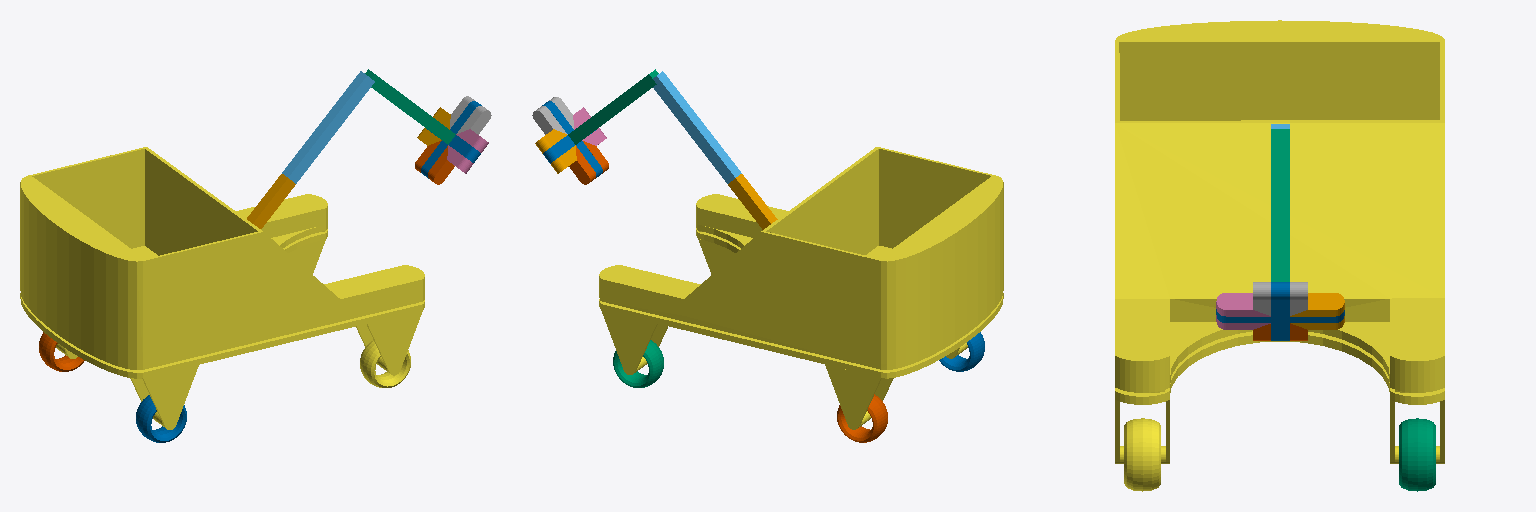
robot.urdf — Final Robot:
<robot name="Final Robot" version="1.0">
  <joint name="Arm_Link_1" type="revolute">
    <limit lower="-1.57000" upper="10.00000" effort="0.00000" velocity="0.00000"/>
    <origin rpy="-1.57080 1.57080 0.00000" xyz="-0.00205 -0.00000 0.24982"/>
    <parent link="Arm_Base_link"/>
    <child link="Arm_Link_1_link"/>
    <axis xyz="0.00000 0.00000 1.00000"/>
  </joint>
  <joint name="Arm_Link_2" type="revolute">
    <limit lower="-5.00000" upper="5.00000" effort="0.00000" velocity="0.00000"/>
    <origin rpy="0.00000 0.00000 1.54609" xyz="-0.99754 0.00174 -0.00000"/>
    <parent link="Arm_Link_1_link"/>
    <child link="Arm_Link_2_link"/>
    <axis xyz="0.00000 0.00000 1.00000"/>
  </joint>
  <joint name="Base_Arm" type="revolute">
    <limit lower="-10.00000" upper="10.00000" effort="0.00000" velocity="0.00000"/>
    <origin rpy="0.00000 0.78540 0.00000" xyz="0.47162 0.00259 -0.16401"/>
    <parent link="Chasis_link"/>
    <child link="Arm_Base_link"/>
    <axis xyz="0.00000 0.00000 1.00000"/>
  </joint>
  <joint name="Gripper_1" type="revolute">
    <limit lower="0.00000" upper="3.00000" effort="0.00000" velocity="0.00000"/>
    <origin rpy="-1.57080 -1.56905 0.00000" xyz="0.30521 -0.00000 -0.00053"/>
    <parent link="Effector_Base_link"/>
    <child link="Grip_1_link"/>
    <axis xyz="0.00000 0.00000 1.00000"/>
  </joint>
  <joint name="Gripper_2" type="revolute">
    <limit lower="-3.00000" upper="0.00000" effort="0.00000" velocity="0.00000"/>
    <origin rpy="1.56905 0.00000 -1.57080" xyz="-0.00000 -0.30521 0.00000"/>
    <parent link="Effector_Base_link"/>
    <child link="Grip_2_link"/>
    <axis xyz="0.00000 0.00000 1.00000"/>
  </joint>
  <joint name="Gripper_3" type="revolute">
    <limit lower="-3.00000" upper="0.00000" effort="0.00000" velocity="0.00000"/>
    <origin rpy="1.57083 1.56905 -3.14156" xyz="-0.30521 -0.00000 0.00053"/>
    <parent link="Effector_Base_link"/>
    <child link="Grip_3_link"/>
    <axis xyz="0.00000 0.00000 1.00000"/>
  </joint>
  <joint name="Gripper_4" type="revolute">
    <limit lower="0.00000" upper="3.00000" effort="0.00000" velocity="0.00000"/>
    <origin rpy="-1.56905 -0.00000 1.57080" xyz="-0.00000 0.30521 0.00000"/>
    <parent link="Effector_Base_link"/>
    <child link="Grip_4_link"/>
    <axis xyz="0.00000 0.00000 1.00000"/>
  </joint>
  <joint name="Gripper_Base" type="continuous">
    <limit lower="0" upper="0" effort="0.00000" velocity="0.00000"/>
    <origin rpy="1.57080 -0.00000 -1.57254" xyz="-1.05000 0.00096 -0.00000"/>
    <parent link="Arm_Link_2_link"/>
    <child link="Effector_Base_link"/>
    <axis xyz="0.00000 0.00000 1.00000"/>
  </joint>
  <joint name="Lid" type="revolute">
    <limit lower="0.00000" upper="1.60000" effort="0.00000" velocity="0.00000"/>
    <origin rpy="1.57080 0.00000 0.00000" xyz="-1.14192 -0.00004 0.12451"/>
    <parent link="Chasis_link"/>
    <child link="Lid_link"/>
    <axis xyz="0.00000 0.00000 1.00000"/>
  </joint>
  <joint name="Wheel_1" type="continuous">
    <limit lower="0" upper="0" effort="0.00000" velocity="0.00000"/>
    <origin rpy="1.57080 0.00000 0.00000" xyz="-0.92500 0.75000 -1.35074"/>
    <parent link="Chasis_link"/>
    <child link="Wheel_Rear_Right_link"/>
    <axis xyz="0.00000 0.00000 1.00000"/>
  </joint>
  <joint name="Wheel_2" type="continuous">
    <limit lower="0" upper="0" effort="0.00000" velocity="0.00000"/>
    <origin rpy="1.57080 0.00000 0.00000" xyz="-0.92500 -0.75000 -1.35074"/>
    <parent link="Chasis_link"/>
    <child link="Wheel_Rear_Left_link"/>
    <axis xyz="0.00000 0.00000 1.00000"/>
  </joint>
  <joint name="Wheel_3" type="continuous">
    <limit lower="0" upper="0" effort="0.00000" velocity="0.00000"/>
    <origin rpy="1.57080 0.00000 0.00000" xyz="1.07500 -0.75000 -1.35074"/>
    <parent link="Chasis_link"/>
    <child link="Wheel_Front_Right_link"/>
    <axis xyz="0.00000 0.00000 1.00000"/>
  </joint>
  <joint name="Wheel_4" type="continuous">
    <limit lower="0" upper="0" effort="0.00000" velocity="0.00000"/>
    <origin rpy="1.57080 0.00000 0.00000" xyz="1.07500 0.75000 -1.35074"/>
    <parent link="Chasis_link"/>
    <child link="Wheel_Front_Left_link"/>
    <axis xyz="0.00000 0.00000 1.00000"/>
  </joint>
  <link name="Arm_Base_link">
    <collision name="Arm Base_collision">
      <origin rpy="0.00000 -0.00000 0.00000" xyz="-0.00000 0.00000 -0.00000"/>
      <geometry>
        <mesh filename="../meshes/dae/Cube.001.dae" scale="0.05000 0.05000 0.26617"/>
      </geometry>
    </collision>
    <inertial>
      <inertia ixx="0.00200" ixy="0.00000" ixz="0.00000" iyy="0.00200" iyz="0.00000" izz="0.00200"/>
      <origin rpy="0.00000 0.00000 0.00000" xyz="0.00000 0.00000 -0.00000"/>
      <mass value="1.00000"/>
    </inertial>
    <visual name="Arm Base">
      <origin rpy="0.00000 0.00000 0.00000" xyz="0.00000 0.00000 -0.00000"/>
      <geometry>
        <box size="0.10064 0.10000 0.50000"/>
      </geometry>
    </visual>
  </link>
  <link name="Arm_Link_1_link">
    <collision name="Arm Link 1_collision">
      <origin rpy="1.57080 0.00000 -1.57080" xyz="-0.50000 0.00000 0.00000"/>
      <geometry>
        <mesh filename="../meshes/dae/Cube.004.dae" scale="0.05000 0.05000 2.52691"/>
      </geometry>
    </collision>
    <inertial>
      <inertia ixx="0.00200" ixy="0.00000" ixz="0.00000" iyy="0.00200" iyz="0.00000" izz="0.00200"/>
      <origin rpy="0.00000 0.00000 0.00000" xyz="0.00000 -0.00000 0.00000"/>
      <mass value="1.00000"/>
    </inertial>
    <visual name="Arm Link 1">
      <origin rpy="1.57080 0.00000 -1.57254" xyz="-0.50000 0.00000 0.00000"/>
      <geometry>
        <box size="0.10006 0.10000 1.00000"/>
      </geometry>
    </visual>
  </link>
  <link name="Arm_Link_2_link">
    <collision name="Arm Link 2_collision">
      <origin rpy="1.57080 -0.00000 -1.57080" xyz="-0.50000 0.00000 0.00000"/>
      <geometry>
        <mesh filename="../meshes/dae/Cube.005.dae" scale="0.05000 0.05000 2.52691"/>
      </geometry>
    </collision>
    <inertial>
      <inertia ixx="0.00200" ixy="0.00000" ixz="-0.00000" iyy="0.00200" iyz="-0.00000" izz="0.00200"/>
      <origin rpy="0.00000 0.00000 0.00000" xyz="-0.00000 0.00000 0.00000"/>
      <mass value="0.20000"/>
    </inertial>
    <visual name="Arm Link 2">
      <origin rpy="1.57080 -0.00000 -1.57254" xyz="-0.50000 0.00000 0.00000"/>
      <geometry>
        <box size="0.10006 0.10000 1.00000"/>
      </geometry>
    </visual>
  </link>
  <link name="Chasis_link">
    <collision name="Chasis_collision">
      <origin rpy="0.00000 0.00000 0.00000" xyz="0.00000 0.00000 0.00000"/>
      <geometry>
        <mesh filename="../meshes/dae/Cube.012.dae" scale="1.31027 0.99102 0.01250"/>
      </geometry>
    </collision>
    <inertial>
      <inertia ixx="0.01600" ixy="0.00000" ixz="0.00000" iyy="0.01600" iyz="0.00000" izz="0.01600"/>
      <origin rpy="0.00000 0.00000 0.00000" xyz="0.00000 0.00000 0.00000"/>
      <mass value="51.00000"/>
    </inertial>
    <visual name="Chasis">
      <origin rpy="0.00000 0.00000 0.00000" xyz="0.00000 0.00000 0.00000"/>
      <geometry>
        <mesh filename="../meshes/dae/Cube.012.dae" scale="1.31027 0.99102 0.01250"/>
      </geometry>
    </visual>
  </link>
  <link name="Effector_Base_link">
    <collision name="Effector Base_collision">
      <origin rpy="0.00000 0.00175 -0.00000" xyz="-0.00000 0.00000 0.00000"/>
      <geometry>
        <mesh filename="../meshes/dae/Cube.264.dae" scale="0.05000 0.05000 0.25269"/>
      </geometry>
    </collision>
    <inertial>
      <inertia ixx="0.00800" ixy="-0.00000" ixz="-0.00000" iyy="0.00800" iyz="-0.00000" izz="0.00800"/>
      <origin rpy="0.00000 0.00000 0.00000" xyz="-0.00000 -0.00000 -0.00000"/>
      <mass value="0.80000"/>
    </inertial>
    <visual name="Effector Base">
      <origin rpy="0.00000 -0.00000 -0.00000" xyz="0.00000 0.00000 0.00000"/>
      <geometry>
        <mesh filename="../meshes/dae/Cube.264.dae" scale="0.05000 0.05000 0.25269"/>
      </geometry>
    </visual>
  </link>
  <link name="Grip_1_link">
    <collision name="Grip 1_collision">
      <origin rpy="1.57080 -0.00000 1.57080" xyz="-0.00000 -0.00000 -0.00000"/>
      <geometry>
        <mesh filename="../meshes/dae/Cube.266.dae" scale="0.05000 0.05000 0.05000"/>
      </geometry>
    </collision>
    <visual name="Grip 1">
      <origin rpy="1.57080 -0.00000 1.57080" xyz="-0.00000 -0.00000 -0.00000"/>
      <geometry>
        <mesh filename="../meshes/dae/Cube.266.dae" scale="0.05000 0.05000 0.05000"/>
      </geometry>
    </visual>
  </link>
  <link name="Grip_2_link">
    <collision name="Grip 2_collision">
      <origin rpy="-1.57080 0.00000 0.00000" xyz="-0.00000 -0.00000 0.00000"/>
      <geometry>
        <mesh filename="../meshes/dae/Cube.270.dae" scale="0.05000 0.05000 0.05000"/>
      </geometry>
    </collision>
    <visual name="Grip 2">
      <origin rpy="-1.57080 -0.00000 -0.00000" xyz="-0.00000 -0.00000 0.00000"/>
      <geometry>
        <mesh filename="../meshes/dae/Cube.270.dae" scale="0.05000 0.05000 0.05000"/>
      </geometry>
    </visual>
  </link>
  <link name="Grip_3_link">
    <collision name="Grip 3_collision">
      <origin rpy="-1.57080 0.00000 1.57080" xyz="0.00000 0.00000 0.00000"/>
      <geometry>
        <mesh filename="../meshes/dae/Cube.268.dae" scale="0.05000 0.05000 0.05000"/>
      </geometry>
    </collision>
    <visual name="Grip 3">
      <origin rpy="-1.57080 0.00000 1.57080" xyz="0.00000 0.00000 0.00000"/>
      <geometry>
        <mesh filename="../meshes/dae/Cube.268.dae" scale="0.05000 0.05000 0.05000"/>
      </geometry>
    </visual>
  </link>
  <link name="Grip_4_link">
    <collision name="Grip 4_collision">
      <origin rpy="1.57080 -0.00000 0.00000" xyz="-0.00000 0.00000 0.00000"/>
      <geometry>
        <mesh filename="../meshes/dae/Cube.269.dae" scale="0.05000 0.05000 0.05000"/>
      </geometry>
    </collision>
    <visual name="Grip 4">
      <origin rpy="1.57080 -0.00000 0.00000" xyz="-0.00000 0.00000 0.00000"/>
      <geometry>
        <mesh filename="../meshes/dae/Cube.269.dae" scale="0.05000 0.05000 0.05000"/>
      </geometry>
    </visual>
  </link>
  <link name="Lid_link">
    <collision name="Lid_collision">
      <origin rpy="-1.57080 0.00000 0.00000" xyz="0.00000 0.00000 0.00000"/>
      <geometry>
        <mesh filename="../meshes/dae/Cube.015.dae" scale="1.31027 0.99102 0.01250"/>
      </geometry>
    </collision>
  </link>
  <link name="Wheel_Front_Left_link">
    <collision name="Wheel_Front_Left_collision">
      <origin rpy="0.00000 0.00000 0.00000" xyz="0.00000 0.00000 0.00000"/>
      <geometry>
        <mesh filename="../meshes/dae/Torus.001.dae" scale="0.16000 0.16000 0.40000"/>
      </geometry>
    </collision>
    <visual name="Wheel_Front_Left">
      <origin rpy="0.00000 0.00000 0.00000" xyz="0.00000 0.00000 0.00000"/>
      <geometry>
        <mesh filename="../meshes/dae/Torus.001.dae" scale="0.16000 0.16000 0.40000"/>
      </geometry>
    </visual>
  </link>
  <link name="Wheel_Front_Right_link">
    <collision name="Wheel_Front_Right_collision">
      <origin rpy="0.00000 0.00000 0.00000" xyz="0.00000 0.00000 -0.00000"/>
      <geometry>
        <mesh filename="../meshes/dae/Torus.dae" scale="0.16000 0.16000 0.40000"/>
      </geometry>
    </collision>
    <visual name="Wheel_Front_Right">
      <origin rpy="0.00000 0.00000 0.00000" xyz="0.00000 0.00000 -0.00000"/>
      <geometry>
        <mesh filename="../meshes/dae/Torus.dae" scale="0.16000 0.16000 0.40000"/>
      </geometry>
    </visual>
  </link>
  <link name="Wheel_Rear_Left_link">
    <collision name="Wheel_Rear_Left_collision">
      <origin rpy="0.00000 0.00000 0.00000" xyz="0.00000 0.00000 -0.00000"/>
      <geometry>
        <mesh filename="../meshes/dae/Torus.003.dae" scale="0.16000 0.16000 0.40000"/>
      </geometry>
    </collision>
    <visual name="Wheel_Rear_Left">
      <origin rpy="0.00000 0.00000 0.00000" xyz="0.00000 0.00000 -0.00000"/>
      <geometry>
        <mesh filename="../meshes/dae/Torus.003.dae" scale="0.16000 0.16000 0.40000"/>
      </geometry>
    </visual>
  </link>
  <link name="Wheel_Rear_Right_link">
    <collision name="Wheel_Rear_Right_collision">
      <origin rpy="0.00000 0.00000 0.00000" xyz="0.00000 0.00000 0.00000"/>
      <geometry>
        <mesh filename="../meshes/dae/Torus.002.dae" scale="0.16000 0.16000 0.40000"/>
      </geometry>
    </collision>
    <visual name="Wheel_Rear_Right">
      <origin rpy="0.00000 0.00000 0.00000" xyz="0.00000 0.00000 0.00000"/>
      <geometry>
        <mesh filename="../meshes/dae/Torus.002.dae" scale="0.16000 0.16000 0.40000"/>
      </geometry>
    </visual>
  </link>
</robot>

--- What the picture shows (computed from the rendered views, not written in the file) ---
Views: 3 orthographic renders of the robot side by side, from view 1: azimuth 30°, elevation 25°; view 2: azimuth 150°, elevation 25°; view 3: azimuth 270°, elevation 25°.
Model Final Robot with 14 links and 13 joints (8 revolute, 5 continuous), rooted at Chasis_link, posed every joint at zero.
Visible links, largest first — view 1: Chasis_link, Arm_Link_1_link, Arm_Link_2_link, Wheel_Front_Right_link, Wheel_Rear_Left_link, Arm_Base_link, Effector_Base_link, Wheel_Rear_Right_link, Grip_1_link, Grip_3_link, Grip_2_link; view 2: Chasis_link, Arm_Link_1_link, Arm_Link_2_link, Wheel_Rear_Right_link, Wheel_Front_Left_link, Arm_Base_link, Effector_Base_link, Wheel_Rear_Left_link, Grip_1_link, Grip_3_link, Grip_4_link; view 3: Chasis_link, Arm_Link_2_link, Wheel_Front_Left_link, Wheel_Front_Right_link, Effector_Base_link, Grip_4_link, Grip_2_link, Grip_3_link.
Link boxes in pixels (left/top/right/bottom): Chasis_link: left=20, top=147, right=424, bottom=429; Arm_Link_1_link: left=282, top=71, right=374, bottom=183; Arm_Link_2_link: left=365, top=69, right=455, bottom=144; Wheel_Front_Right_link: left=360, top=340, right=410, bottom=387; Wheel_Rear_Left_link: left=136, top=395, right=186, bottom=442; Arm_Base_link: left=247, top=174, right=295, bottom=228; Effector_Base_link: left=421, top=101, right=481, bottom=178; Wheel_Rear_Right_link: left=39, top=332, right=84, bottom=371; Grip_1_link: left=415, top=140, right=454, bottom=184; Grip_3_link: left=450, top=96, right=491, bottom=134; Grip_2_link: left=447, top=129, right=488, bottom=173; Chasis_link: left=599, top=147, right=1003, bottom=429; Arm_Link_1_link: left=653, top=71, right=741, bottom=183; Arm_Link_2_link: left=568, top=69, right=658, bottom=144; Wheel_Rear_Right_link: left=837, top=394, right=887, bottom=442; Wheel_Front_Left_link: left=613, top=340, right=663, bottom=387; Arm_Base_link: left=728, top=174, right=777, bottom=229; Effector_Base_link: left=542, top=101, right=602, bottom=177; Wheel_Rear_Left_link: left=939, top=332, right=984, bottom=371; Grip_1_link: left=569, top=141, right=608, bottom=184; Grip_3_link: left=532, top=97, right=573, bottom=134; Grip_4_link: left=535, top=129, right=576, bottom=173; Chasis_link: left=1115, top=20, right=1444, bottom=463; Arm_Link_2_link: left=1271, top=129, right=1289, bottom=281; Wheel_Front_Left_link: left=1399, top=418, right=1435, bottom=491; Wheel_Front_Right_link: left=1124, top=418, right=1160, bottom=491; Effector_Base_link: left=1216, top=282, right=1344, bottom=340; Grip_4_link: left=1290, top=293, right=1344, bottom=329; Grip_2_link: left=1216, top=293, right=1270, bottom=329; Grip_3_link: left=1253, top=282, right=1307, bottom=315.
Bounding box of the posed robot: 3.79 × 1.8 × 2.31 m (x, y, z).
10 mesh visuals loaded from 10 distinct referenced files (10 Collada DAE).